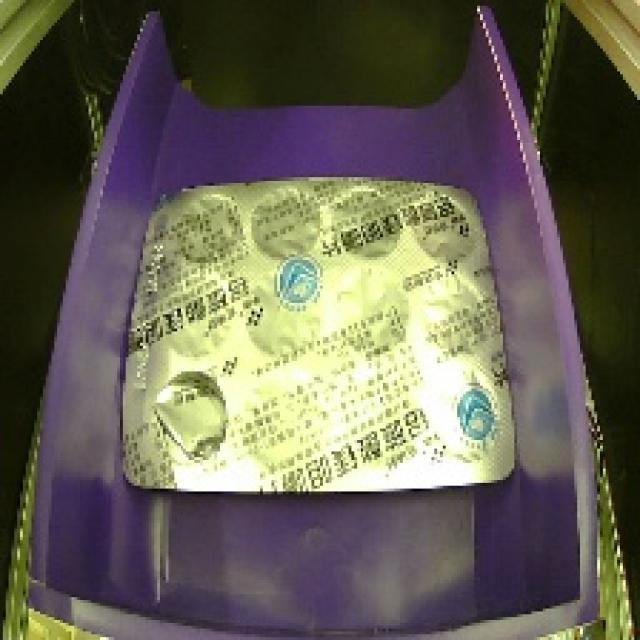med_plate: (100, 165, 537, 510)
